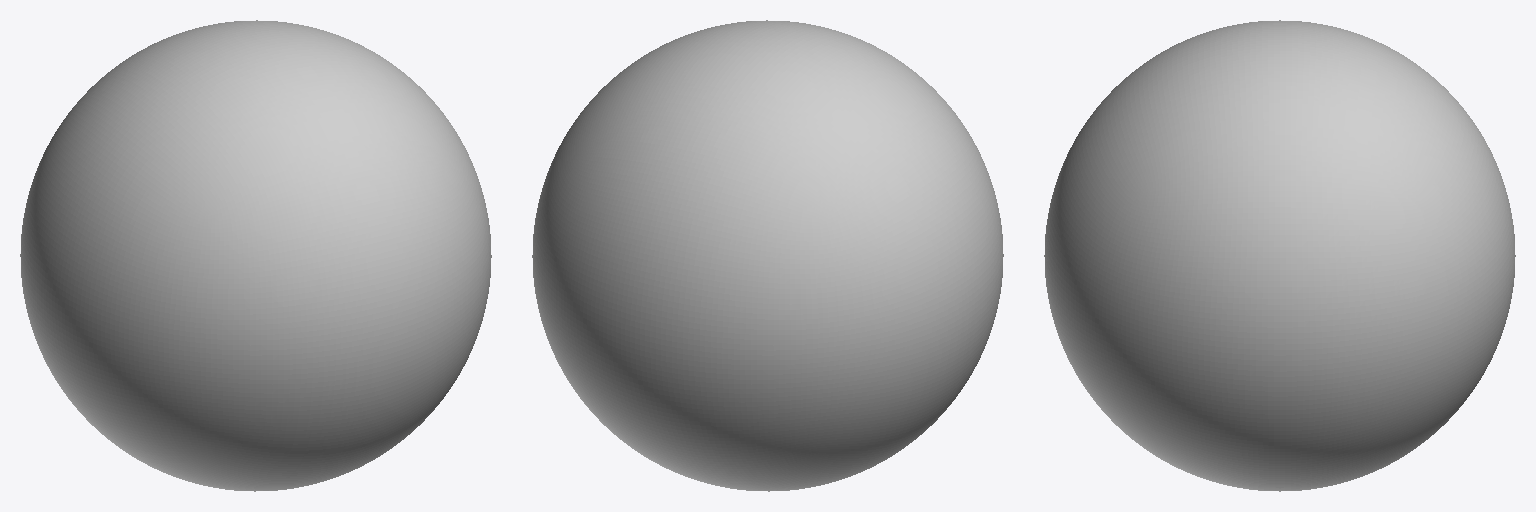
Rendered from cubesphere.obj.
3 views of the same model, side by side, from view 1: azimuth 30°, elevation 25°; view 2: azimuth 150°, elevation 25°; view 3: azimuth 270°, elevation 25° (orthographic).
Size of the model in its own units: 0.8563 by 0.8563 by 0.8563.